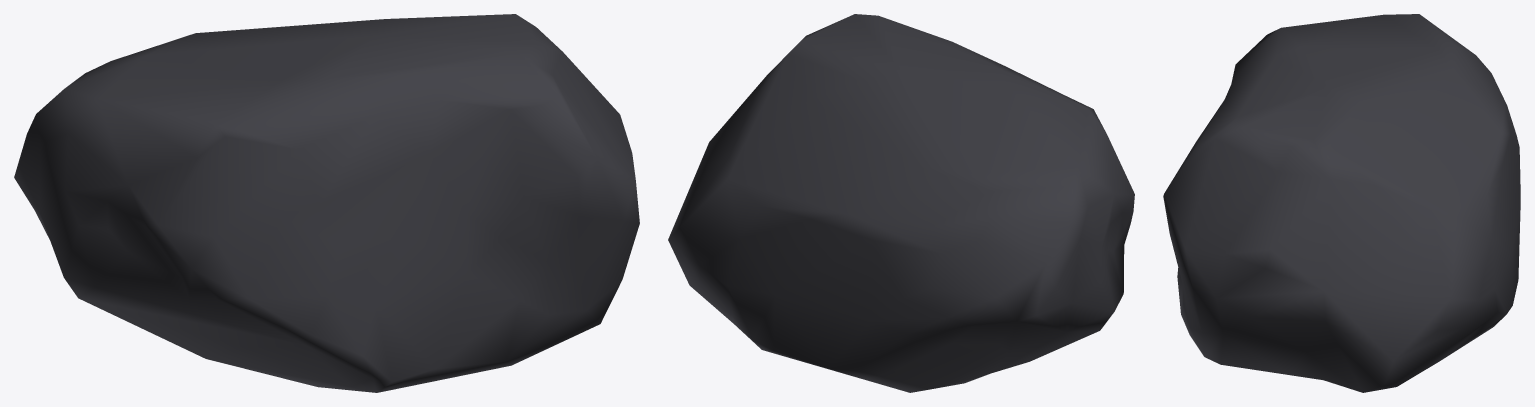
Rendered from Rock_2.fbx.
3 renders of one model, left to right at view 1: azimuth 30°, elevation 25°; view 2: azimuth 150°, elevation 25°; view 3: azimuth 270°, elevation 25°, orthographic. The views are drawn at different scales.
Visible parts, largest first — view 1: Rock_2; view 2: Rock_2; view 3: Rock_2.
Part boxes in pixels (x1,y1,x2,y2): Rock_2: [14, 14, 639, 392]; Rock_2: [668, 14, 1134, 392]; Rock_2: [1163, 14, 1520, 392].
Bounding box in the file's own units: 41.76 × 24.74 × 31.2.
Materials: 1 (1 with a texture image).
